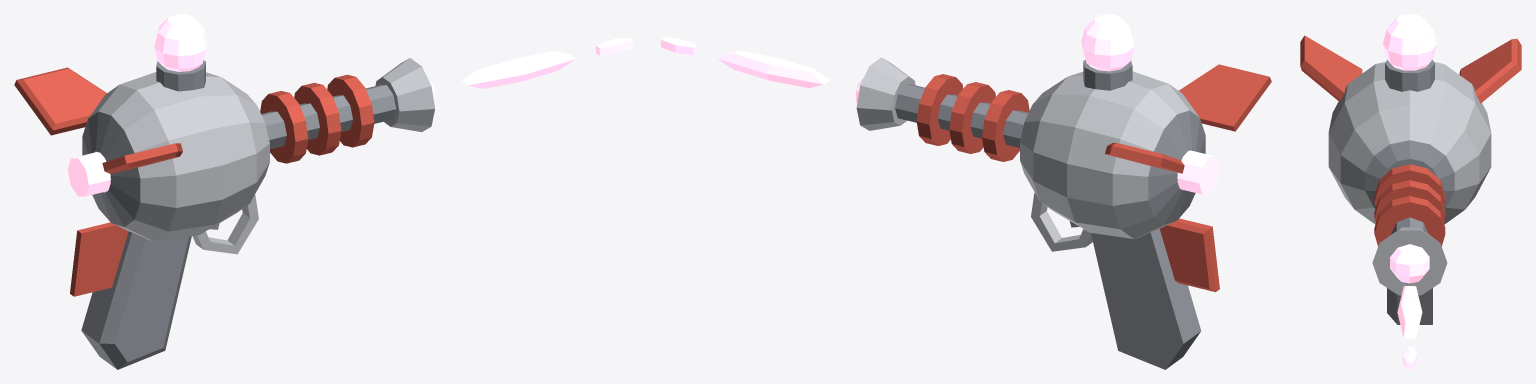
File: item_laser.glb
The picture shows the model from 3 angles, left to right: view 1: azimuth 30°, elevation 25°; view 2: azimuth 150°, elevation 25°; view 3: azimuth 270°, elevation 25°; orthographic projection.
Visible parts, largest first — view 1: item_laser; view 2: item_laser; view 3: item_laser.
Boxes of the visible parts, left/top/right/bottom form: item_laser: left=14, top=14, right=632, bottom=369; item_laser: left=661, top=14, right=1271, bottom=369; item_laser: left=1300, top=14, right=1521, bottom=369.
Bounding box in the file's own units: 1.52 × 0.865 × 0.5296.
